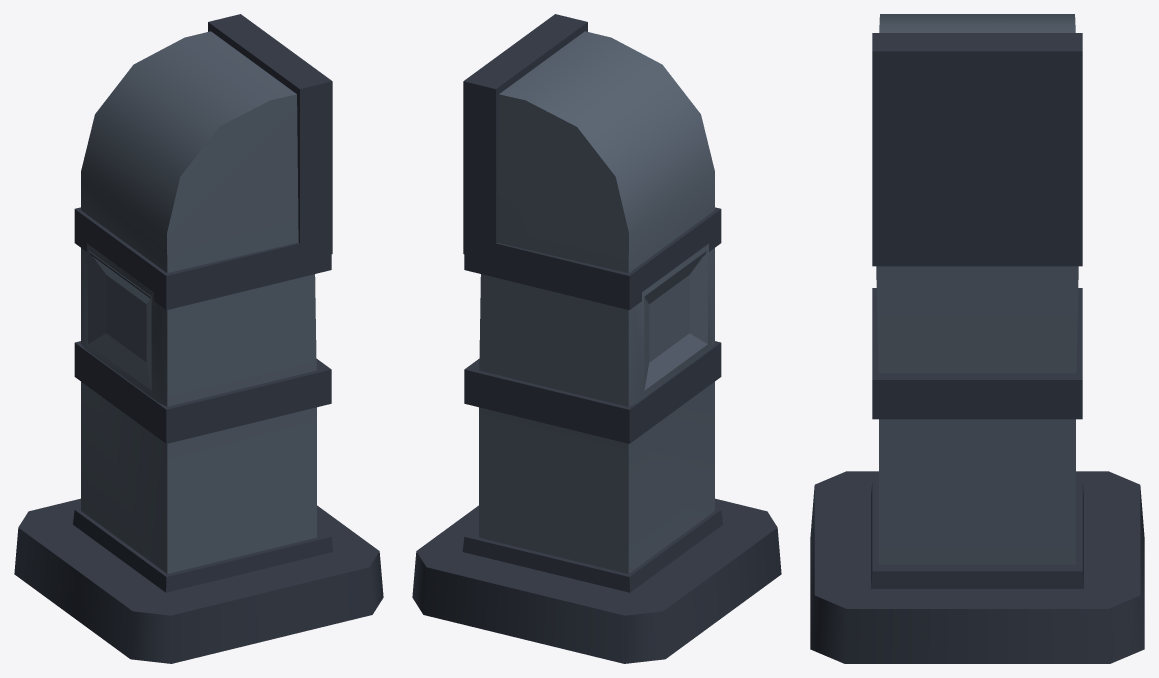
Rendered from Vent_2_A_5.fbx.
The picture shows the model from 3 angles, left to right: view 1: azimuth 30°, elevation 25°; view 2: azimuth 150°, elevation 25°; view 3: azimuth 270°, elevation 25°; orthographic projection. The views are drawn at different scales.
Visible parts, largest first — view 1: Vent_2_A_5; view 2: Vent_2_A_5; view 3: Vent_2_A_5.
Part boxes in pixels (x1,y1,x2,y2): Vent_2_A_5: (14, 14, 383, 663); Vent_2_A_5: (412, 14, 781, 663); Vent_2_A_5: (810, 14, 1144, 663).
Bounding box in the file's own units: 56.66 × 111 × 56.66.
